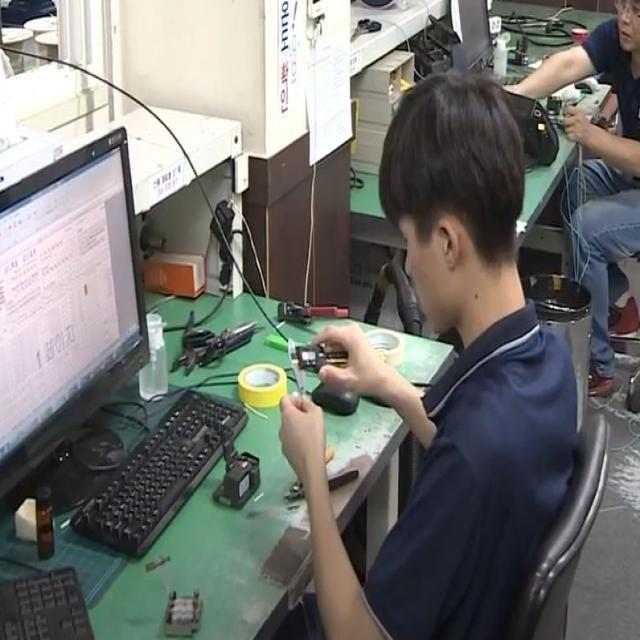bare_hand: (308, 319, 402, 400), (272, 386, 329, 482), (560, 102, 596, 146)
